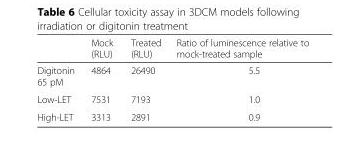table: (36, 36, 308, 122)
table column: (168, 36, 308, 122), (121, 36, 168, 122), (36, 36, 82, 122), (82, 36, 121, 122)
table column header: (36, 36, 308, 61)
table row: (36, 61, 308, 90), (36, 36, 308, 61), (36, 90, 308, 107), (36, 107, 308, 122)
